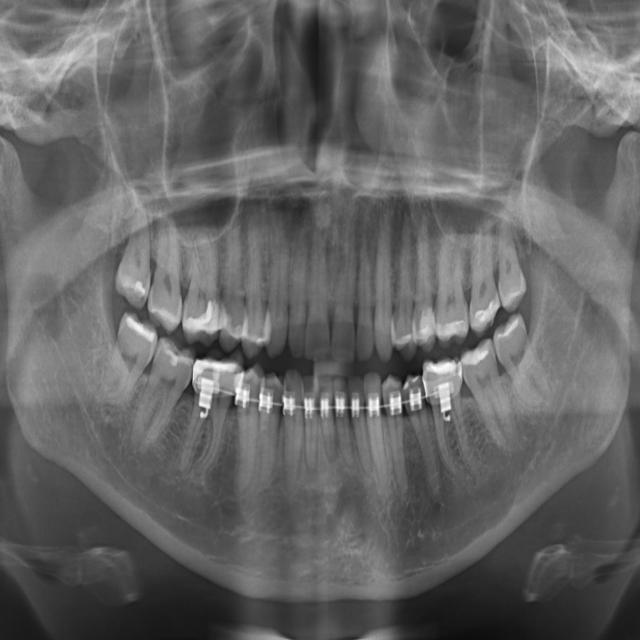CompositeResinRestoration: (437, 306, 471, 351), (120, 311, 160, 348), (158, 329, 195, 369), (188, 298, 220, 342), (459, 339, 492, 379), (471, 296, 498, 336), (130, 262, 151, 310), (413, 315, 437, 349), (221, 299, 235, 338)
